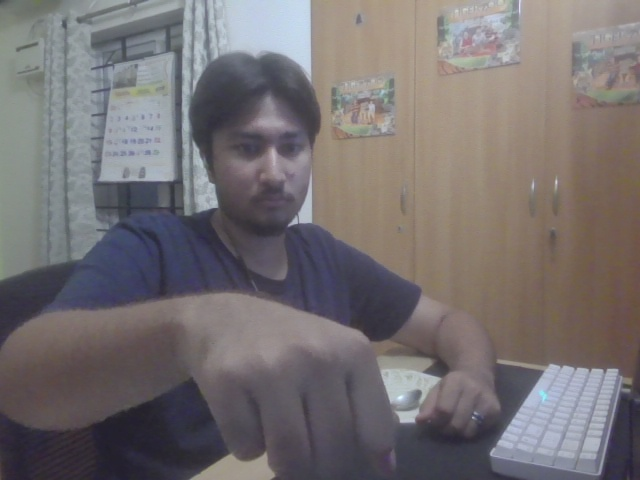yes: (174, 285, 406, 480)
